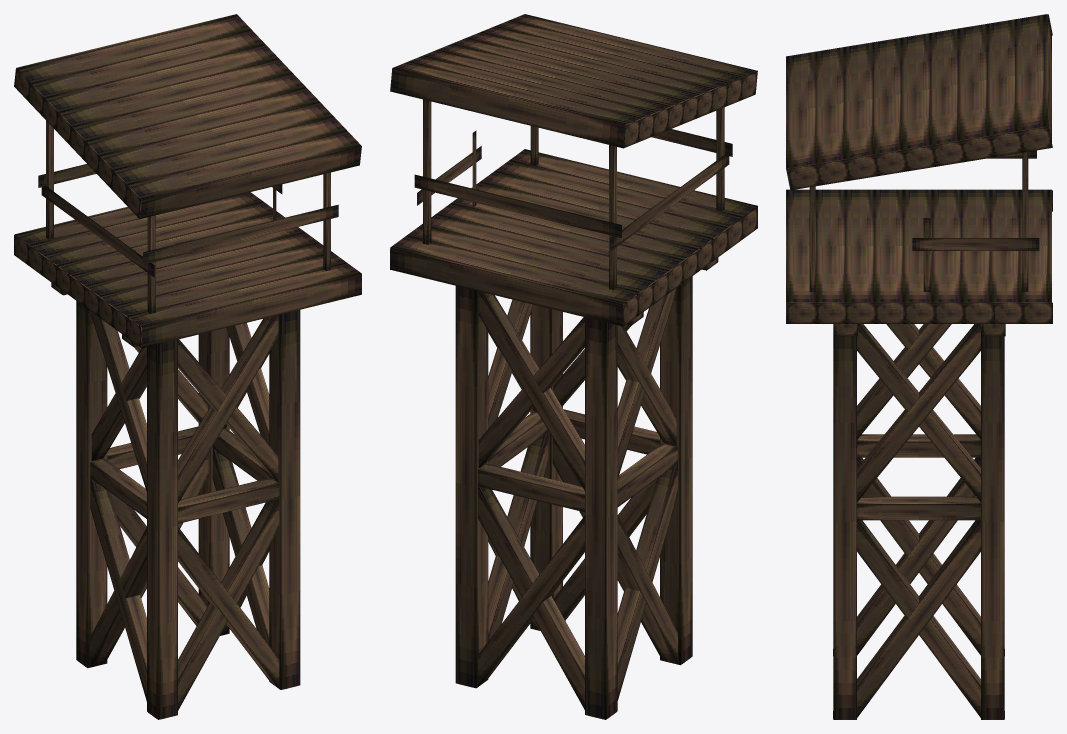
The model's file is defense_tower_ver2_ani.FBX.
The picture shows the model from 3 angles, left to right: view 1: azimuth 30°, elevation 25°; view 2: azimuth 150°, elevation 25°; view 3: azimuth 270°, elevation 25°; orthographic projection. The views are drawn at different scales.
Visible parts, largest first — view 1: TowerB3, TowerB2; view 2: TowerB3, TowerB2; view 3: TowerB3, TowerB2.
Part boxes in pixels (x1,y1,x2,y2): TowerB3: (14, 14, 361, 719); TowerB2: (14, 68, 140, 347); TowerB3: (390, 14, 757, 719); TowerB2: (390, 69, 757, 326); TowerB3: (786, 14, 1051, 719); TowerB2: (787, 14, 1052, 336).
Bounding box in the file's own units: 185 × 472 × 186.
